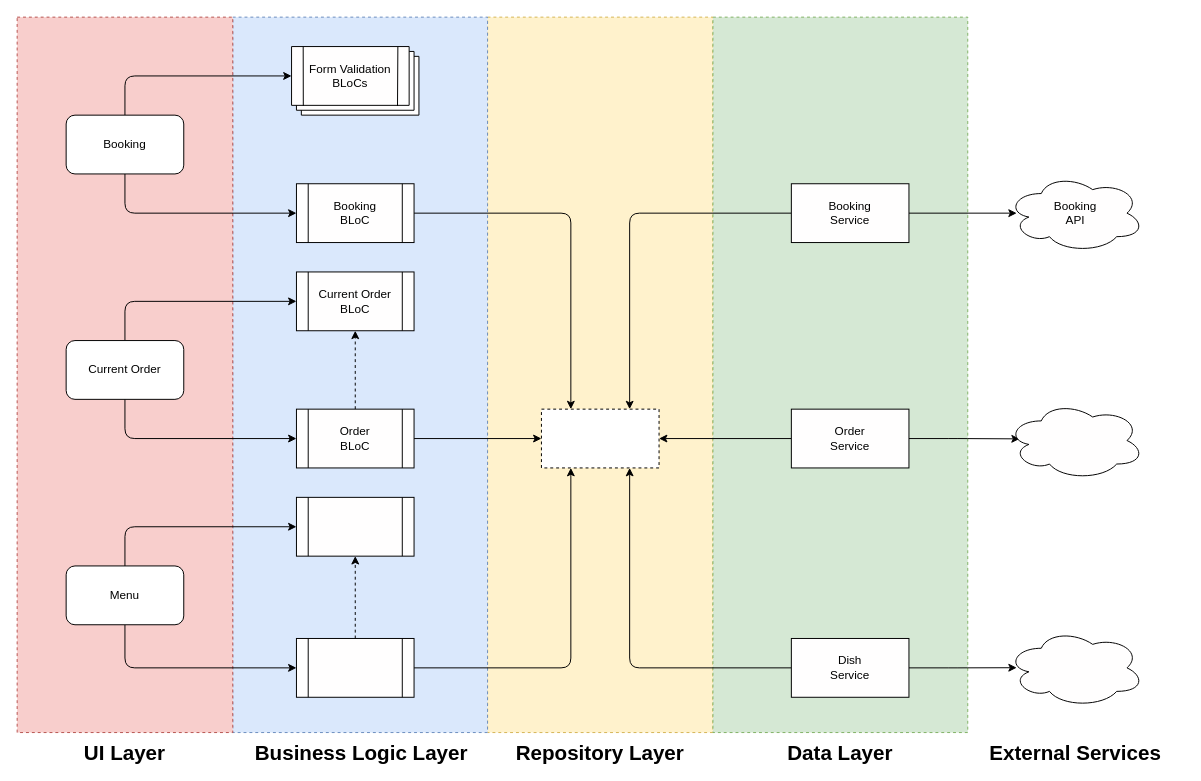
The diagram is 1201 pixels wide and 781 high, and some of its shapes have lost their labels. The shapes that lost their labels are listed below. From the top down, each one's box as (x1, y1, x2, y2) in pixels, then its label:
(540, 408, 659, 468): ExchangePoint <E,T> (Interface)
(1006, 400, 1144, 480): Order API
(295, 496, 414, 556): Current Search BLoC
(295, 637, 414, 697): Dish BLoC
(1006, 628, 1144, 707): Dish API
